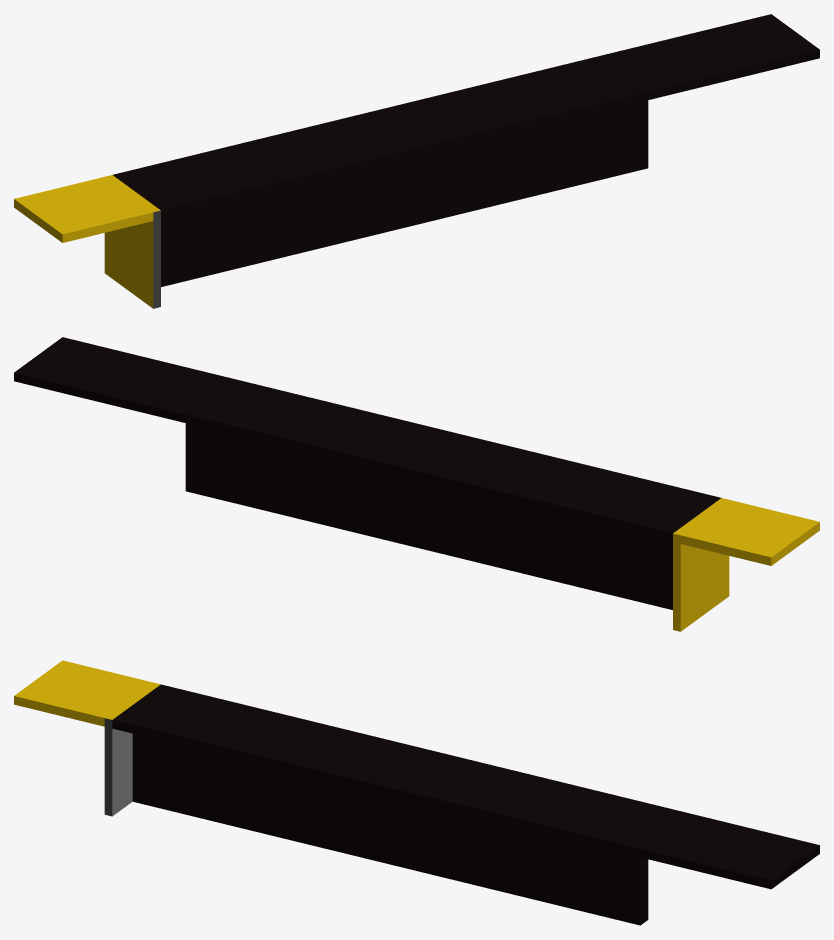
File: Table.fbx
The picture shows the model from 3 angles, top to bottom: view 1: azimuth 30°, elevation 25°; view 2: azimuth 150°, elevation 25°; view 3: azimuth 330°, elevation 25°; orthographic projection.
Parts seen in each view (by area): view 1: Box003; view 2: Box003; view 3: Box003.
Boxes of the visible parts, box(x1,y1,x2,y2) form: Box003: box(14, 14, 819, 308); Box003: box(14, 337, 819, 631); Box003: box(14, 660, 819, 925).
Size of the model in its own units: 653 by 79.59 by 72.63.
